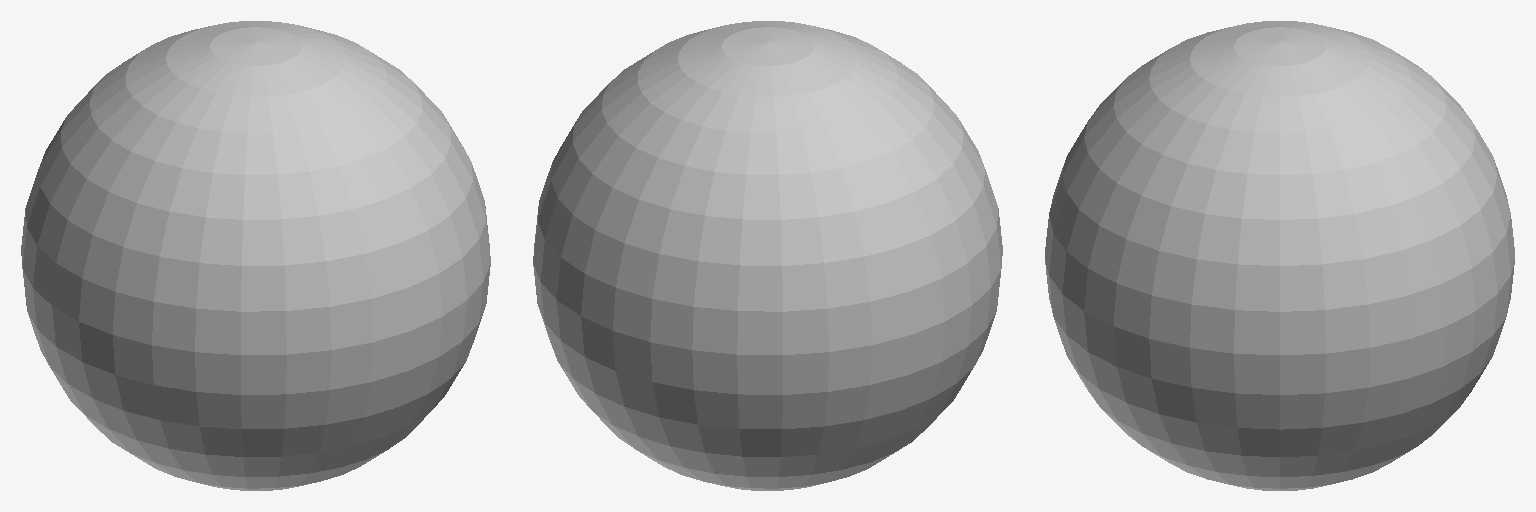
The model's file is Ball.obj.
3 views of the same model, side by side, from view 1: azimuth 30°, elevation 25°; view 2: azimuth 150°, elevation 25°; view 3: azimuth 270°, elevation 25° (orthographic).
Visible parts, largest first — view 1: Sphere; view 2: Sphere; view 3: Sphere.
Boxes of the visible parts, x1,y1,x2,y2 form: Sphere: [21, 21, 490, 490]; Sphere: [533, 21, 1002, 490]; Sphere: [1045, 21, 1514, 490].
Bounding box in the file's own units: 2 × 2 × 2.